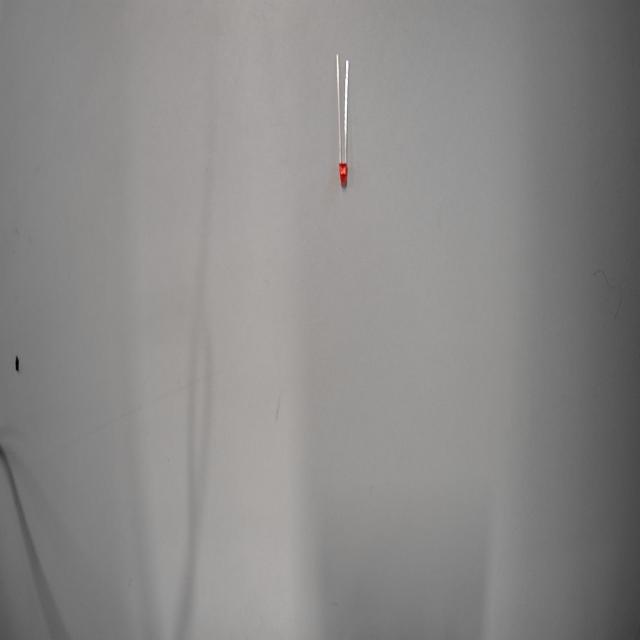LED_red: (324, 138, 368, 205)
